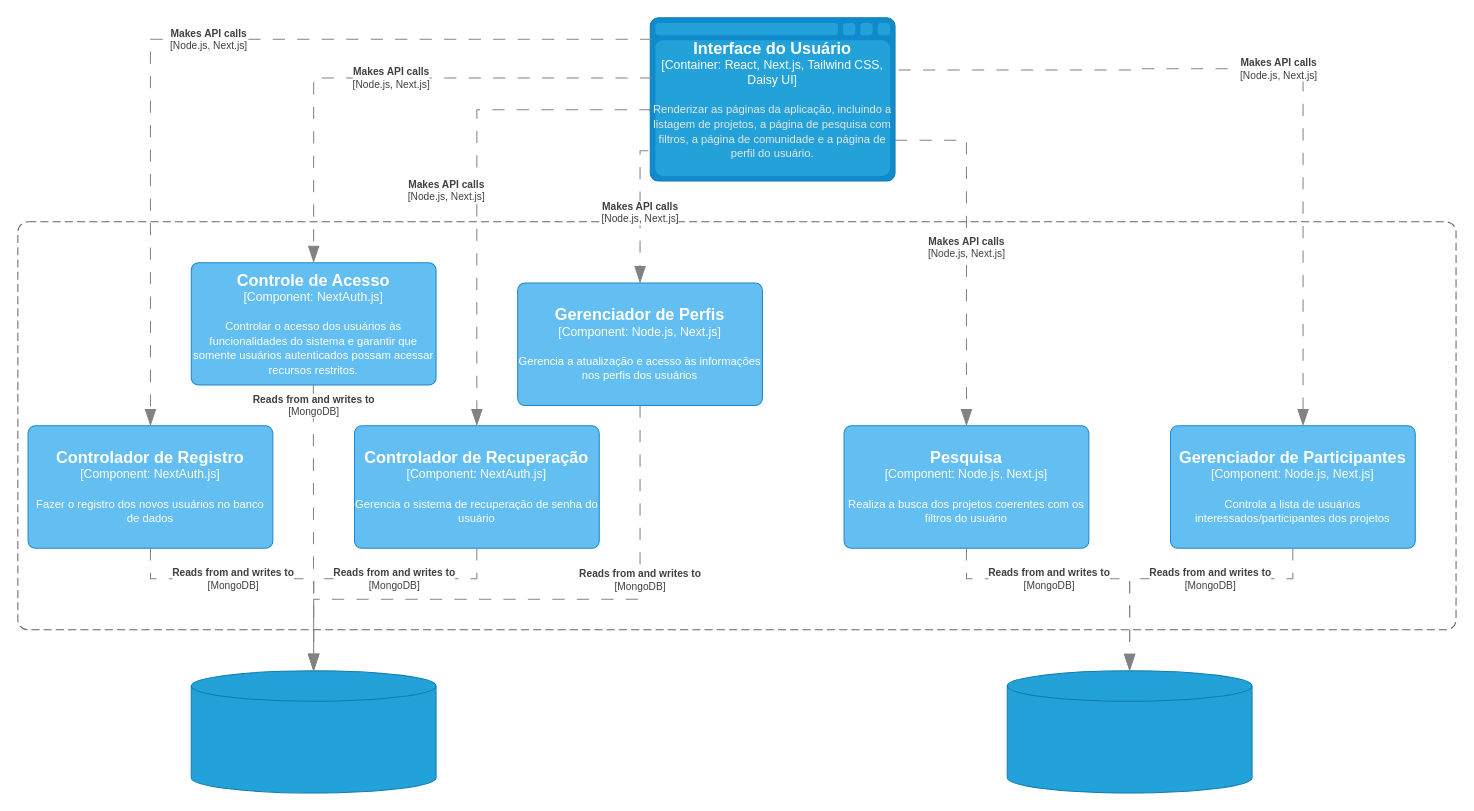
This 1474x811 diagram has some shape labels left out. The box of each missing label's shape, as (x1, y1, x2, y2) in pixels:
API Application [Container]: (17, 221, 1456, 630)
Banco de Projetos [Container: MongoDB] Armazena os dados dos projetos: (1006, 670, 1252, 793)
Banco de Usuários [Container: MongoDB] Armazena os dados dos usuários: (190, 670, 436, 793)
